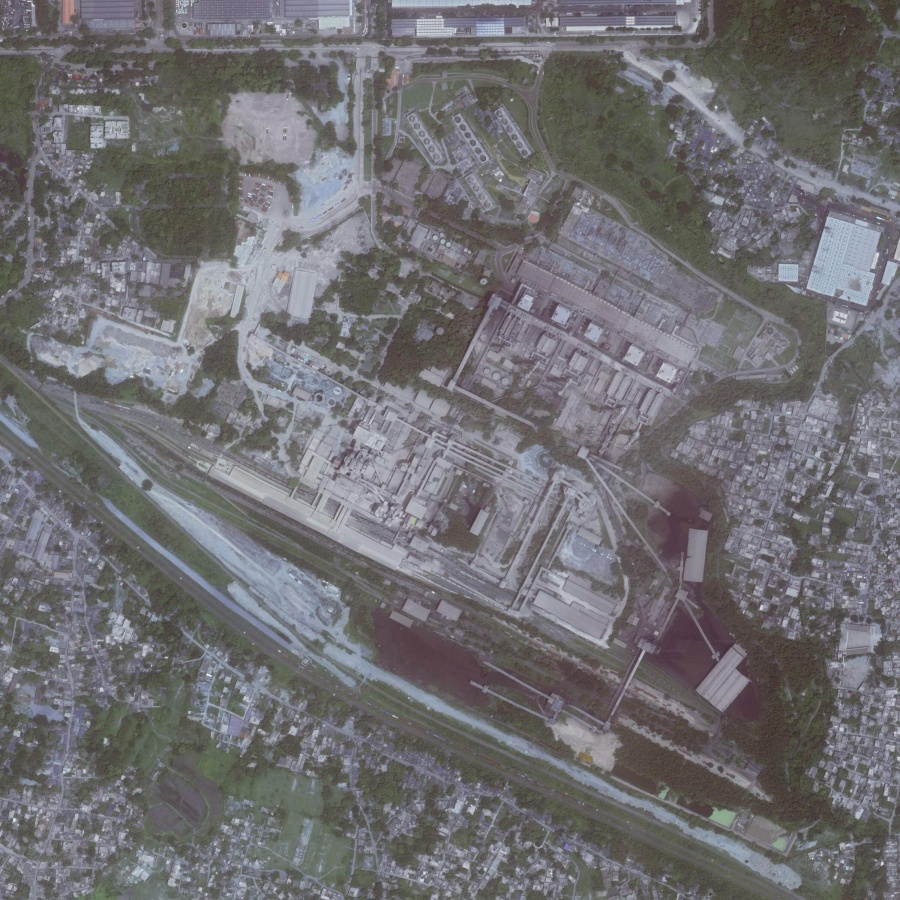PowerPlant: (293, 272, 799, 730)
